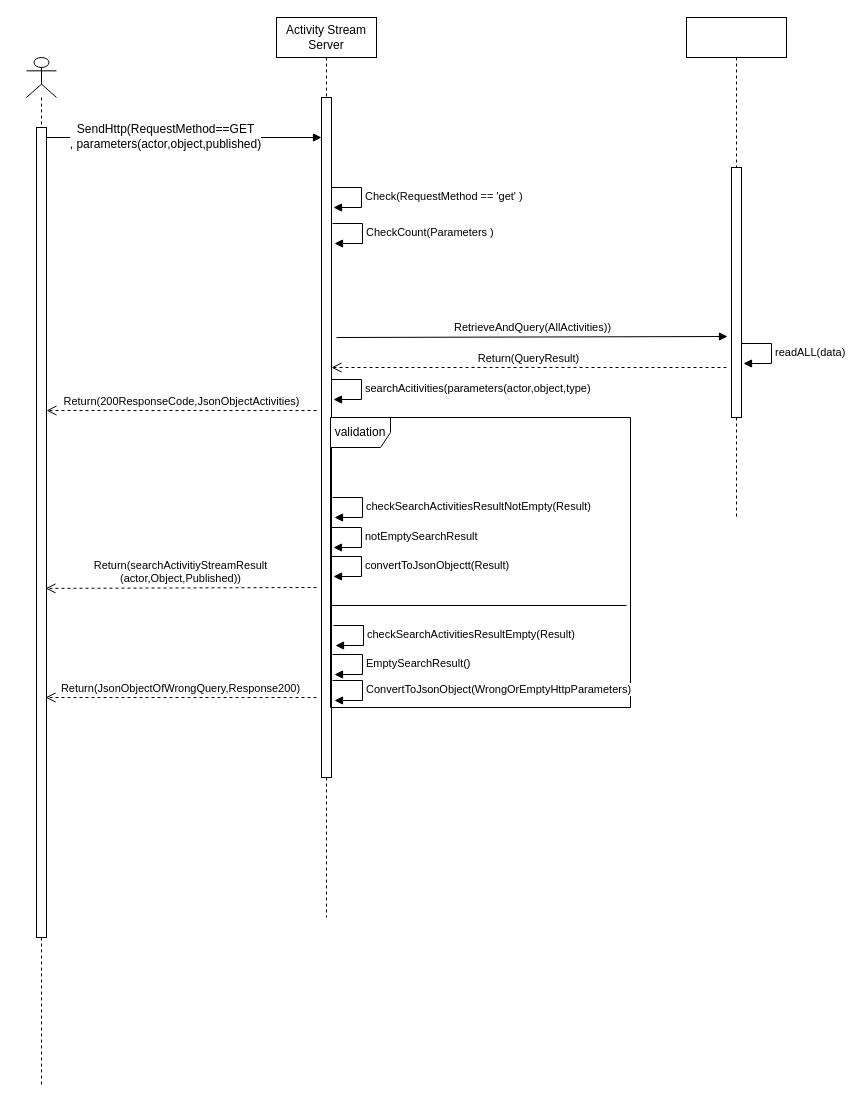
The diagram is 863 pixels wide and 1105 high, and some of its shapes have lost their labels. Here are the shapes that lost their labels. From the top down, the box of each, then its label:
(686, 16, 786, 518): FireBase DataBase
(26, 56, 56, 1088): FrontEnd
